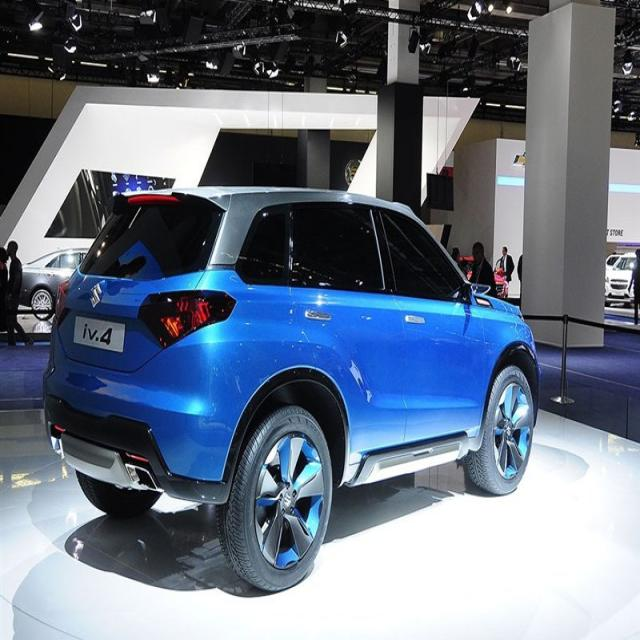back_glass: (78, 193, 225, 281)
back_left_side_light: (54, 279, 72, 326)
back_right_side_light: (135, 287, 239, 351)
door: (251, 202, 390, 458)
front_right_side_door: (372, 199, 487, 455)
front_right_side_mirror: (467, 279, 492, 301)
rear_bumper: (42, 362, 235, 504)
wheel: (216, 405, 333, 593), (465, 367, 534, 495)
